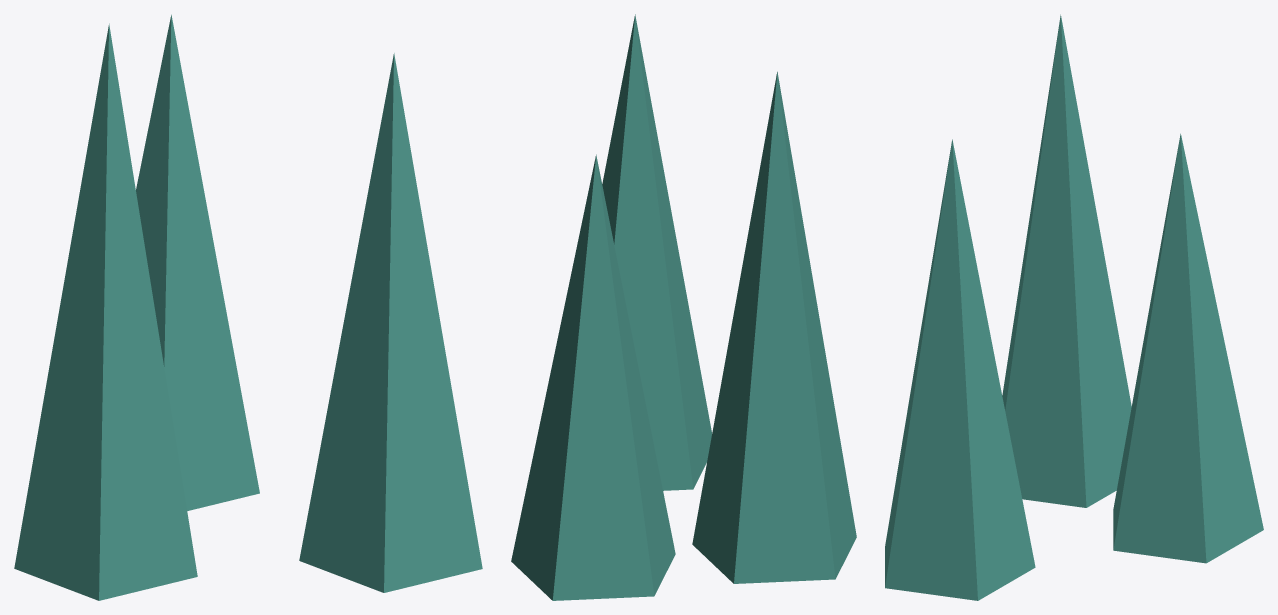
The model's file is Crystal_Cluster_A.glb.
The picture shows the model from 3 angles, left to right: view 1: azimuth 30°, elevation 25°; view 2: azimuth 150°, elevation 25°; view 3: azimuth 270°, elevation 25°; orthographic projection. The views are drawn at different scales.
Parts seen in each view (by area): view 1: Crystal_Cluster_A; view 2: Crystal_Cluster_A; view 3: Crystal_Cluster_A.
Boxes of the visible parts, box(x1,y1,x2,y2) form: Crystal_Cluster_A: box(14, 14, 482, 600); Crystal_Cluster_A: box(511, 14, 856, 600); Crystal_Cluster_A: box(885, 14, 1263, 600).
Bounding box in the file's own units: 0.4314 × 0.58 × 0.4325.
